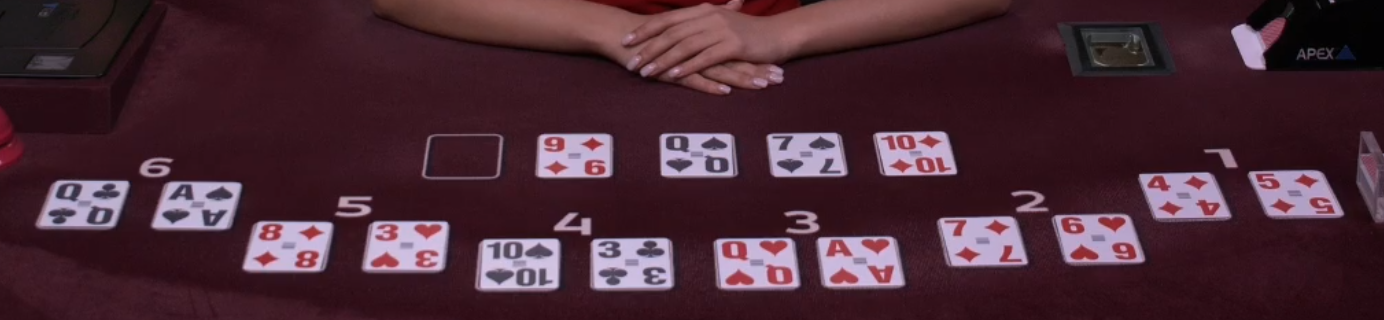10d: (868, 128, 964, 178)
10s: (464, 229, 572, 293)
3c: (590, 227, 689, 296)
3h: (353, 211, 459, 280)
4d: (1139, 163, 1239, 223)
5d: (1247, 164, 1355, 224)
6h: (1047, 208, 1152, 266)
7d: (928, 211, 1030, 271)
7s: (762, 130, 853, 185)
8d: (240, 214, 336, 276)
9d: (531, 127, 623, 187)
ash: (810, 234, 911, 294)
ass: (147, 173, 242, 240)
qc: (33, 168, 130, 228)
qh: (707, 231, 803, 295)
qs: (655, 127, 745, 188)
